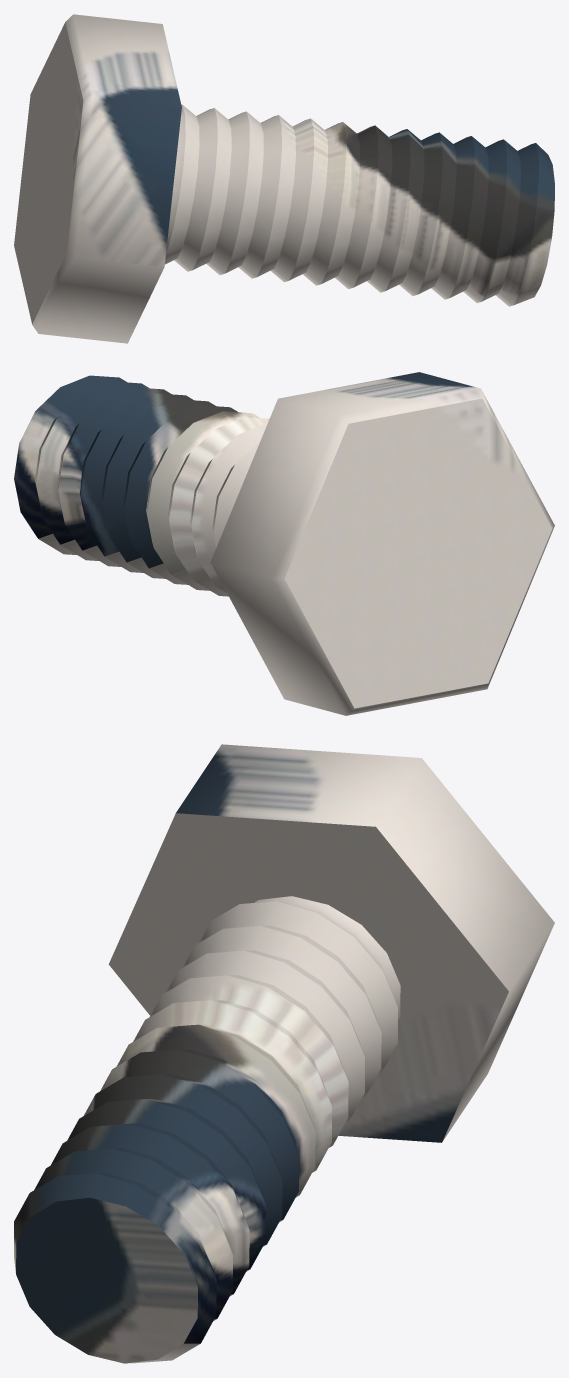
The model's file is nut_1.fbx.
3 views of the same model, one above another, from view 1: azimuth 30°, elevation 25°; view 2: azimuth 150°, elevation 25°; view 3: azimuth 270°, elevation 25° (orthographic). The views are drawn at different scales.
Visible parts, largest first — view 1: nut_1; view 2: nut_1; view 3: nut_1.
Boxes of the visible parts, x1,y1,x2,y2 form: nut_1: (14, 14, 554, 343); nut_1: (14, 372, 554, 715); nut_1: (14, 744, 554, 1363).
Bounding box in the file's own units: 0.1497 × 0.0857 × 0.1084.
